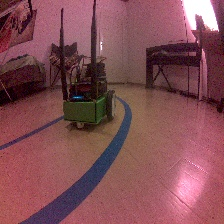rob: (61, 60, 117, 129)
